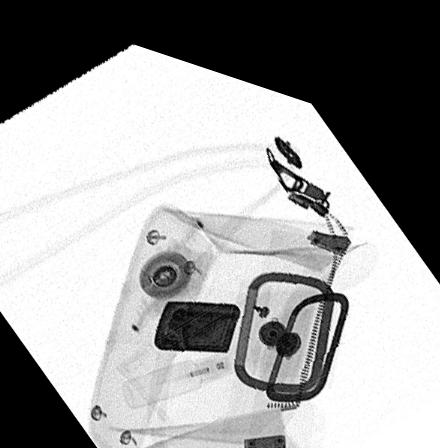Lighter: (153, 288, 242, 340)
